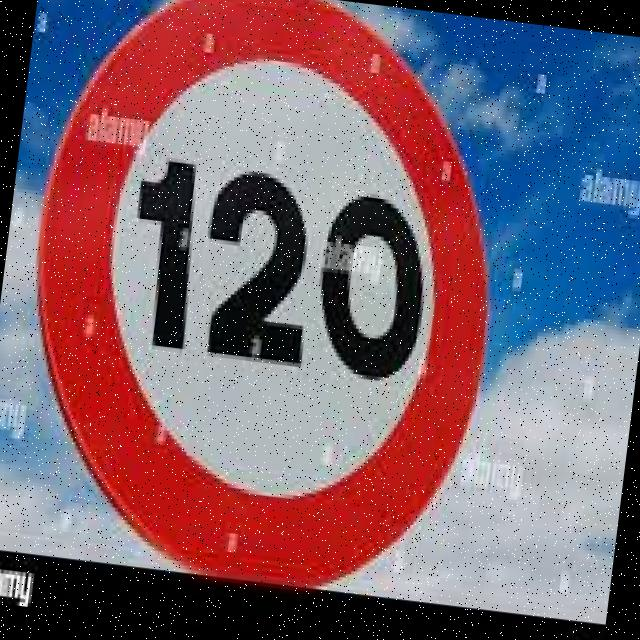speed_limit_120: (0, 0, 521, 605)
